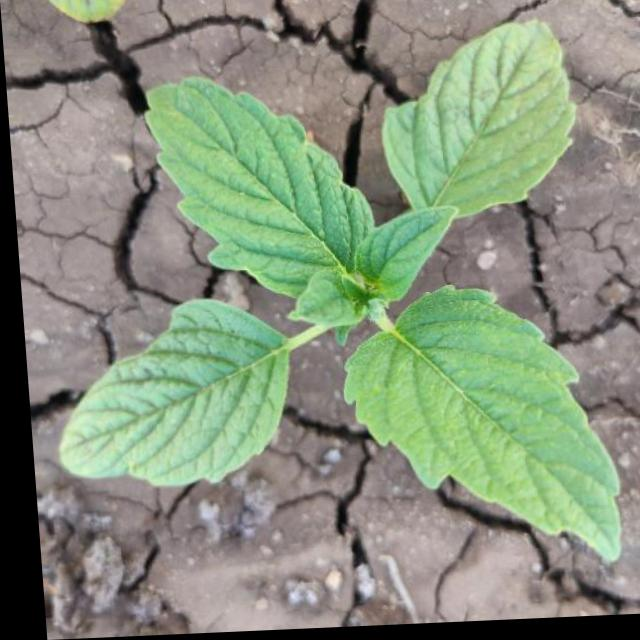crop: (29, 47, 640, 599)
